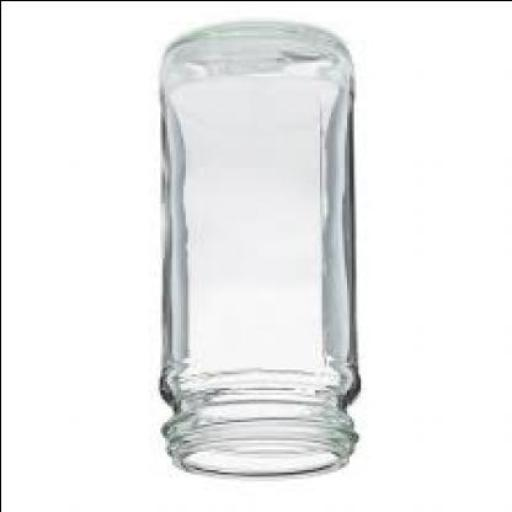glass: (159, 22, 362, 480)
